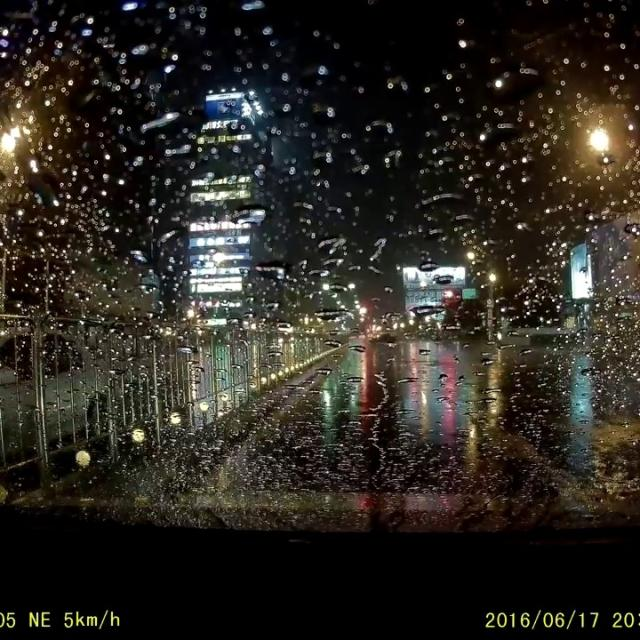Car: (0, 324, 122, 460)
